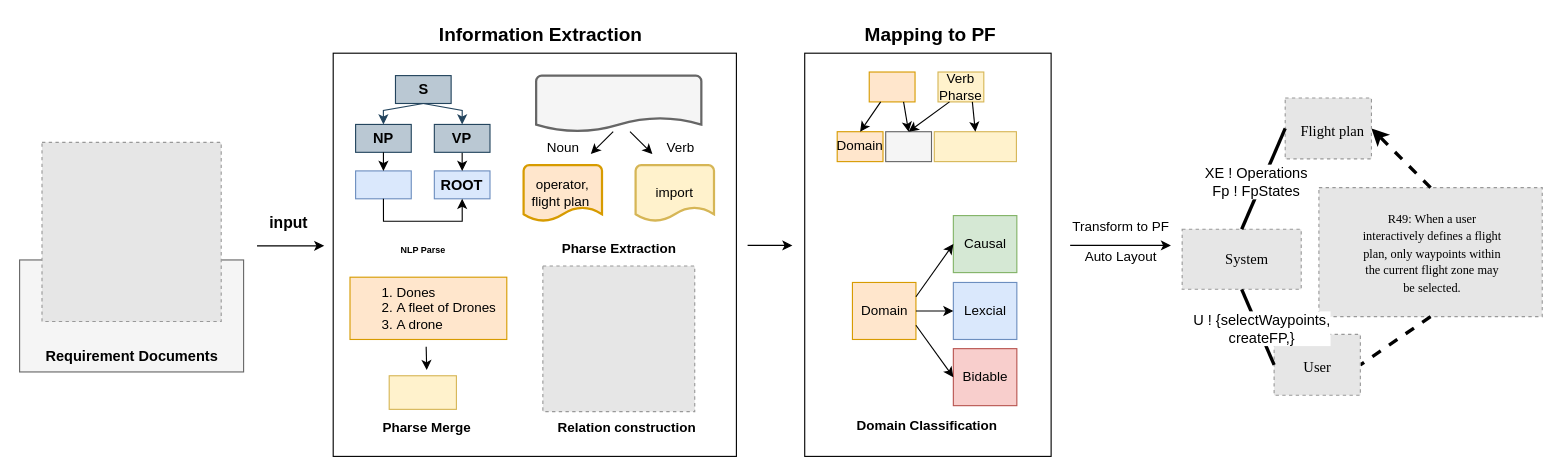
Image size: 1562x476. Some labels were removed from this diagram. Grey dashed boxes stand in for pictures. The centre of each missing label's shape, as x and y in pixels:
Drone: the point at 422,392
Noun Pharse: the point at 891,86
nsubj: the point at 382,184
Operator will select a flight plan to import: the point at 618,103
Pharse classification: the point at 926,179
Phenomenon: the point at 974,146
State: the point at 908,146
